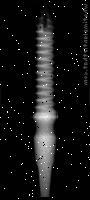Hiossen: (32, 5, 57, 196)
